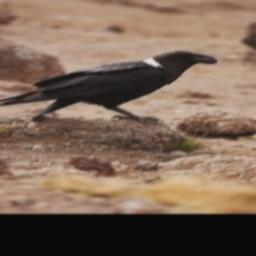Crow: (0, 48, 222, 130)
